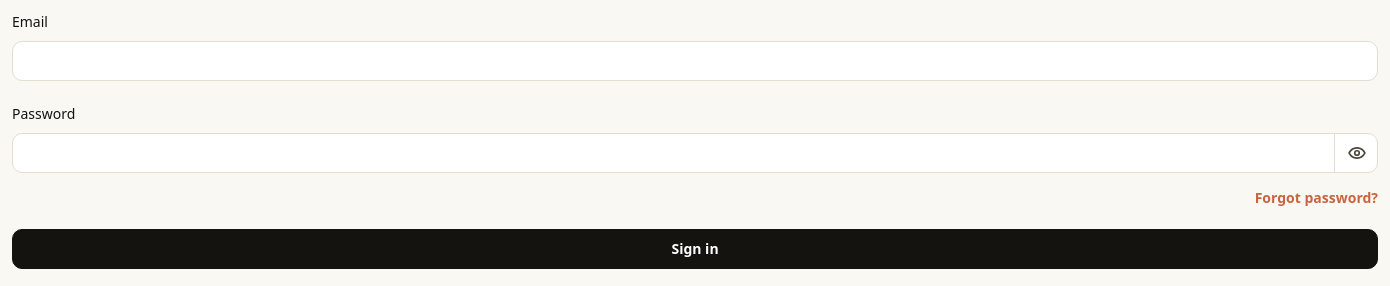
Test: LoginForm › reveals the password without losing value or focus
The width and height of the screenshot is (1390, 286).
Type "a login password" into the password field labelled "Password" at (695, 153), box x1=12 y1=133 x2=1378 y2=173
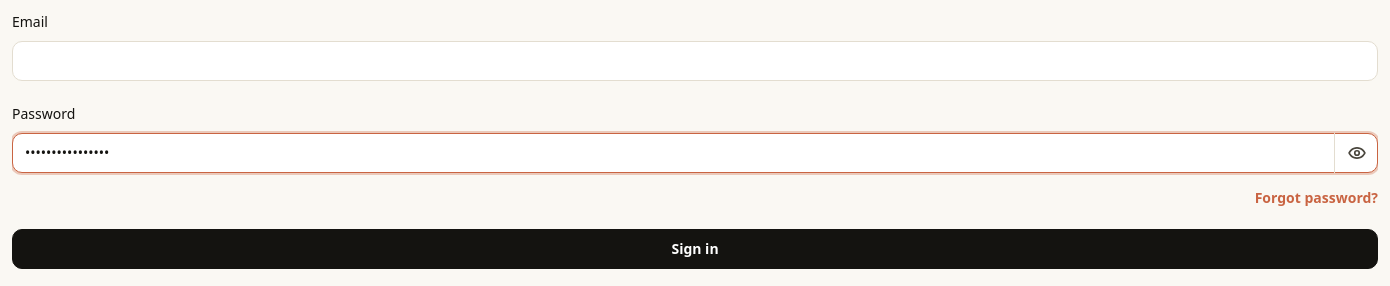
Click the button named "show" at (1356, 153), box x1=1334 y1=133 x2=1378 y2=173
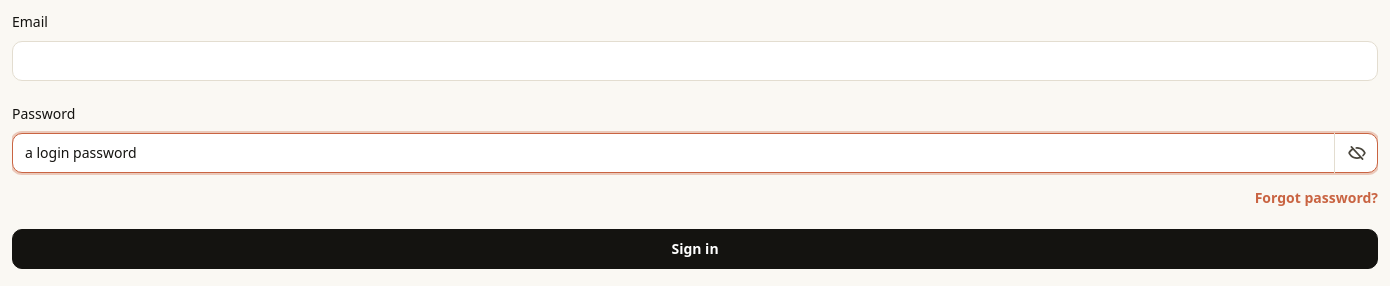
Now the field labelled "Password" shows its text, box x1=12 y1=133 x2=1378 y2=173
